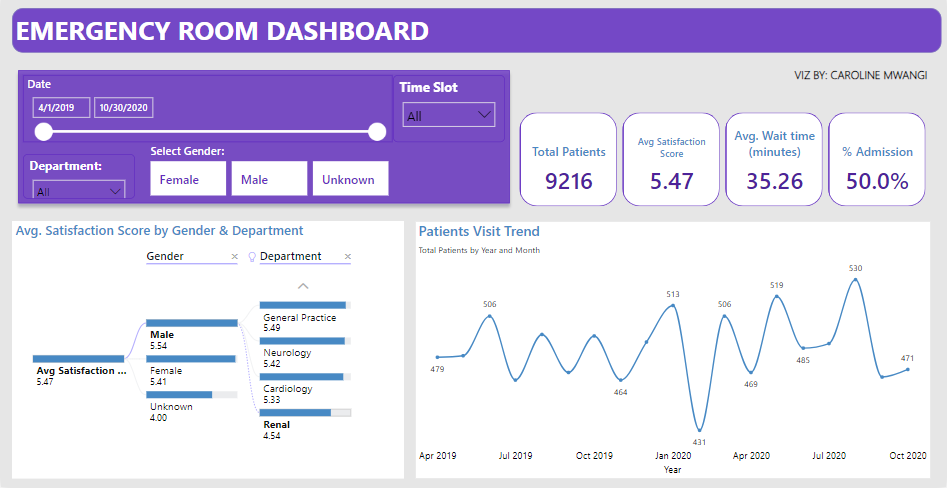

What the dashboard file says about the page in this screenshot:
{"tool":"powerbi","page":{"name":"Overview","canvas":[1350,700],"ordinal":0},"visuals":[{"type":"shape","box":[16,16,1328,64],"z":0},{"type":"shape","box":[16,96,720,208],"z":1000},{"type":"cardVisual","fields":{"Data":["Hospital ER.Total Patients","Hospital ER.Avg Satisfaction Score","Hospital ER.Avg. Wait Time","Hospital ER.% Admission"]},"box":[736,160,592,144],"z":2000},{"type":"lineChart","title":"Patients Visit Trend","fields":{"Y":["Hospital ER.Total Patients"],"Category":["Hospital ER.date.Variation.Date Hierarchy.Year","Hospital ER.date.Variation.Date Hierarchy.Month"]},"box":[592,320,736,368],"z":3000},{"type":"advancedSlicerVisual","title":"Select Gender:","fields":{"Values":["Hospital ER.patient_gender"]},"box":[208,208,352,80],"z":4000},{"type":"slicer","title":"Department:","fields":{"Values":["Hospital ER.department_referral"]},"box":[32,224,160,64],"z":5000},{"type":"decompositionTreeVisual","title":"Avg. Satisfaction Score by Gender & Department","fields":{"Analyze":["Hospital ER.Avg Satisfaction Score"],"ExplainBy":["Hospital ER.patient_gender","Hospital ER.department_referral"]},"box":[16,320,560,368],"z":6000},{"type":"slicer","title":"Date","fields":{"Values":["Hospital ER.date"]},"box":[32,112,528,96],"z":7000},{"type":"slicer","title":"Time Slot","fields":{"Values":["Hospital ER.Time Slot"]},"box":[560,112,160,96],"z":8000},{"type":"textbox","box":[16,16,624,64],"z":9000},{"type":"textbox","box":[1104,96,224,48],"z":10000}]}

Visuals, with their boxes in screenshot pixels (x1, y1, x2, y2), scaled from the page's 1350x700 canvas onto the 947x488 screenshot:
shape: BBox(11, 11, 943, 56)
shape: BBox(11, 67, 516, 212)
cardVisual - Hospital ER.Total Patients x Hospital ER.Avg Satisfaction Score: BBox(516, 112, 932, 212)
"Patients Visit Trend" lineChart: BBox(415, 223, 932, 480)
"Select Gender:" advancedSlicerVisual: BBox(146, 145, 393, 201)
"Department:" slicer: BBox(22, 156, 135, 201)
"Avg. Satisfaction Score by Gender & Department" decompositionTreeVisual: BBox(11, 223, 404, 480)
"Date" slicer: BBox(22, 78, 393, 145)
"Time Slot" slicer: BBox(393, 78, 505, 145)
textbox: BBox(11, 11, 449, 56)
textbox: BBox(774, 67, 932, 100)
